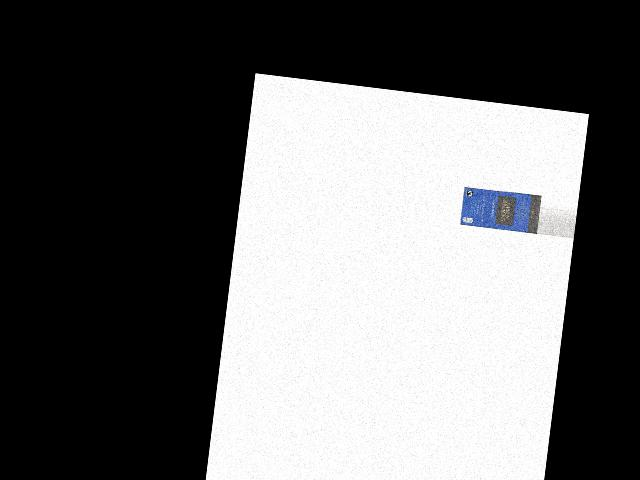chocolate: (460, 186, 541, 234)
